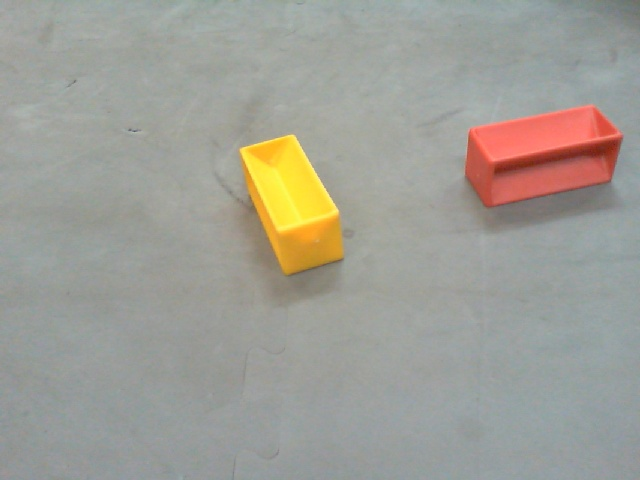RedSample: (466, 106, 624, 208)
YellowSample: (240, 134, 345, 275)
